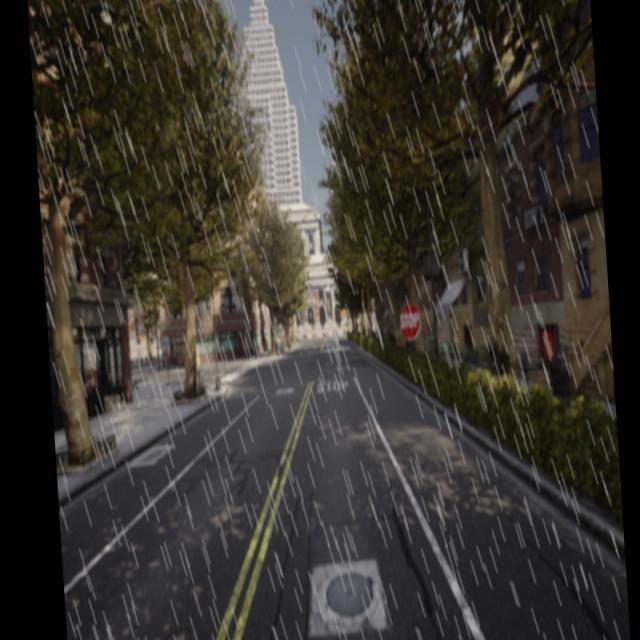stop sign: (397, 299, 422, 342)
